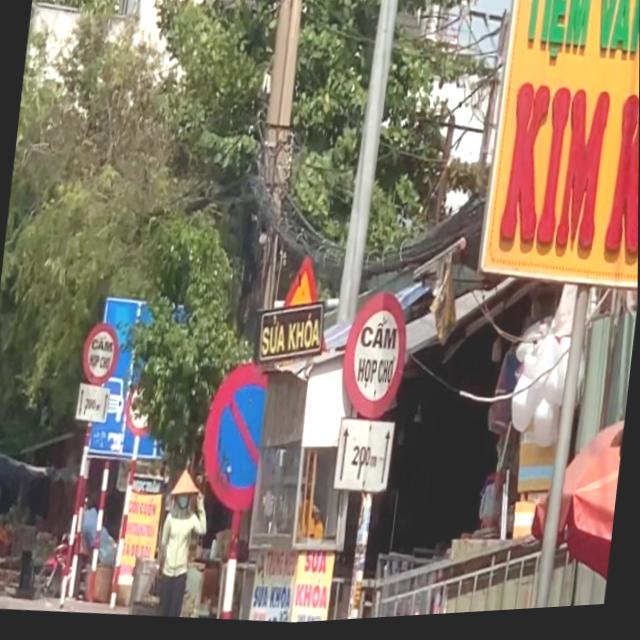Cam do xe: (194, 360, 281, 517)
